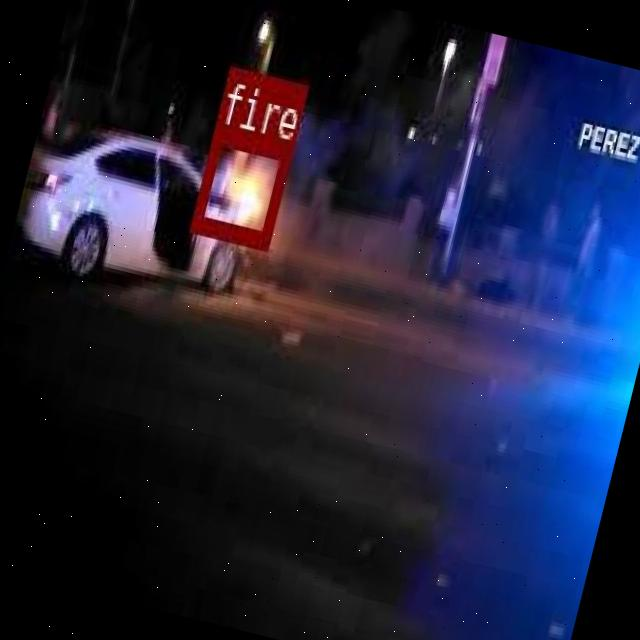fire: (189, 124, 291, 245)
